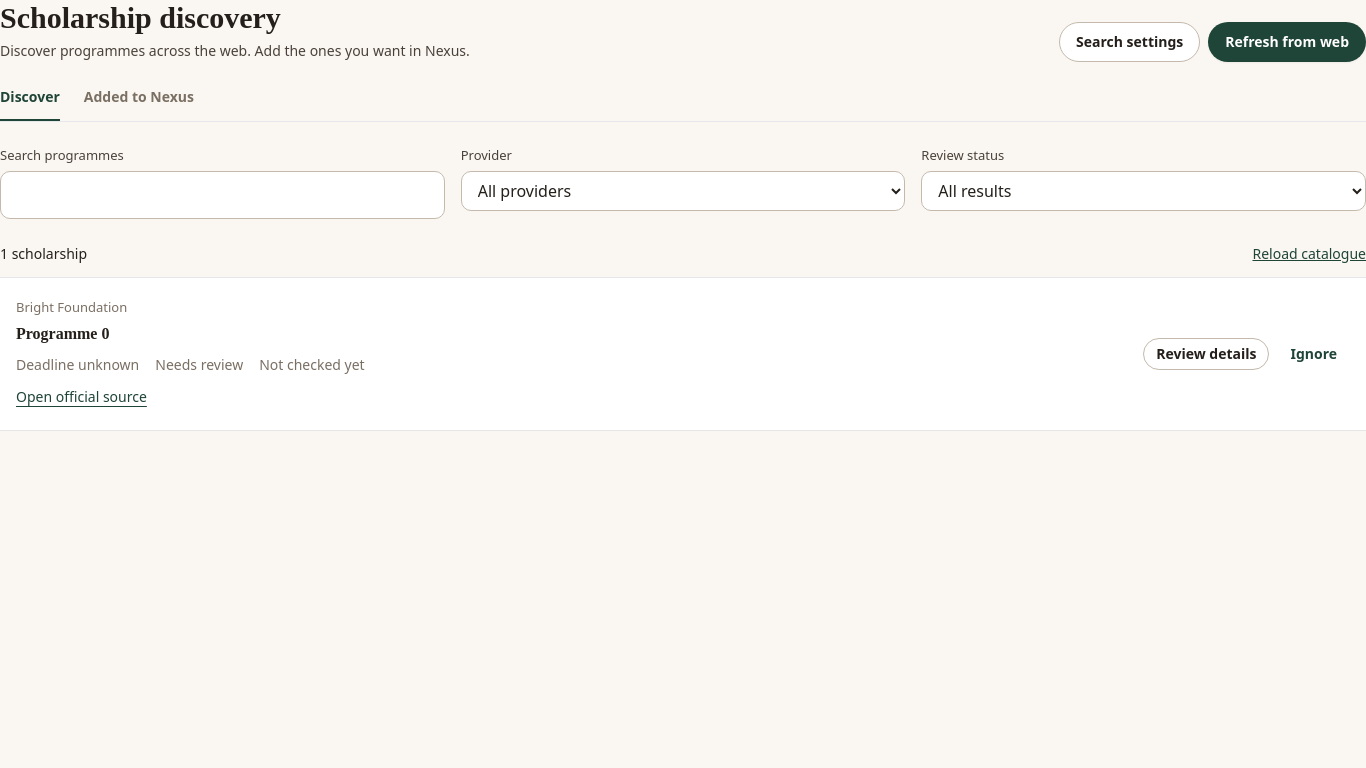
reviews incomplete details with evidence and retains the corrected draft
Expected: the text "1 scholarship" is shown, 0,243 -> 87,265
Expected: the button "Add to Nexus" is not shown
Click the button "Review details" at (1206, 354), box 1143,338 -> 1270,370
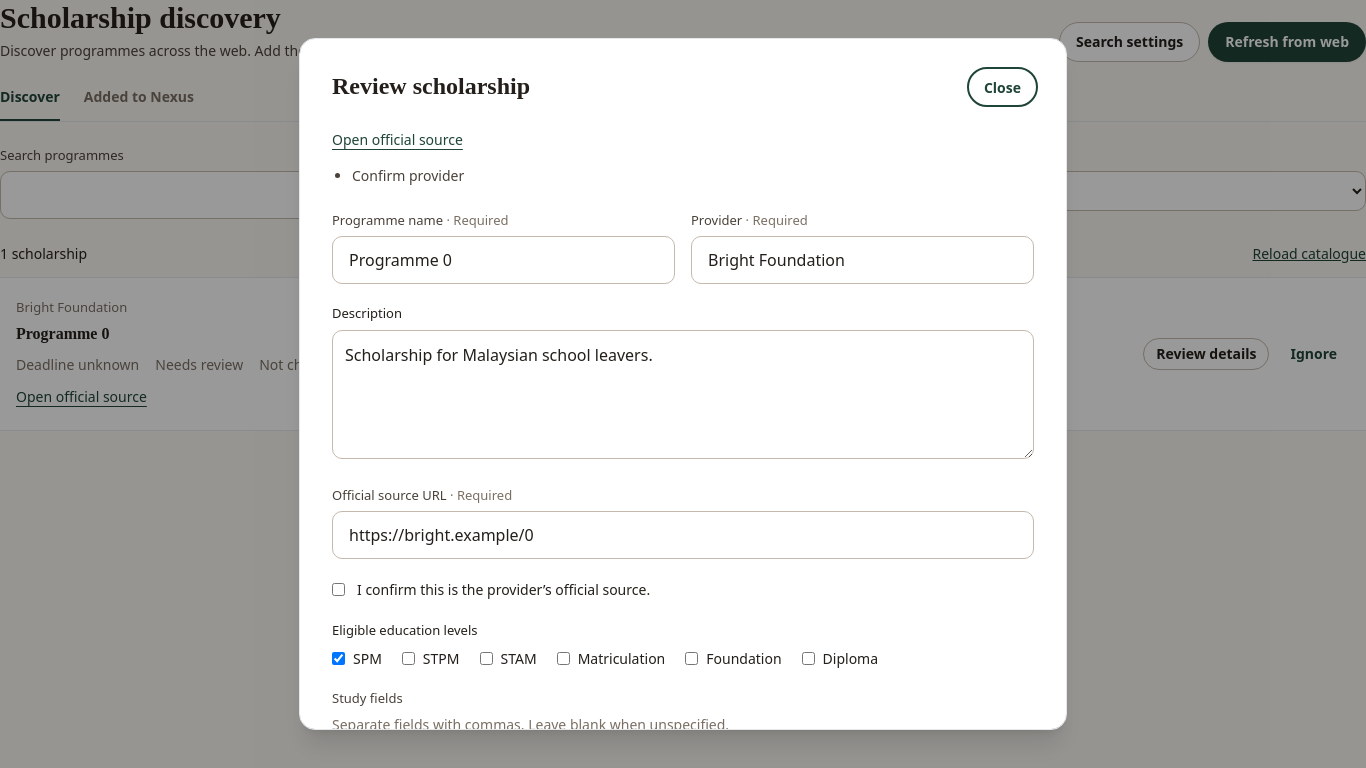
Replace the text in the field labelled "Provider · Required" with "Correct Foundation" at (862, 260), box 691,236 -> 1034,284
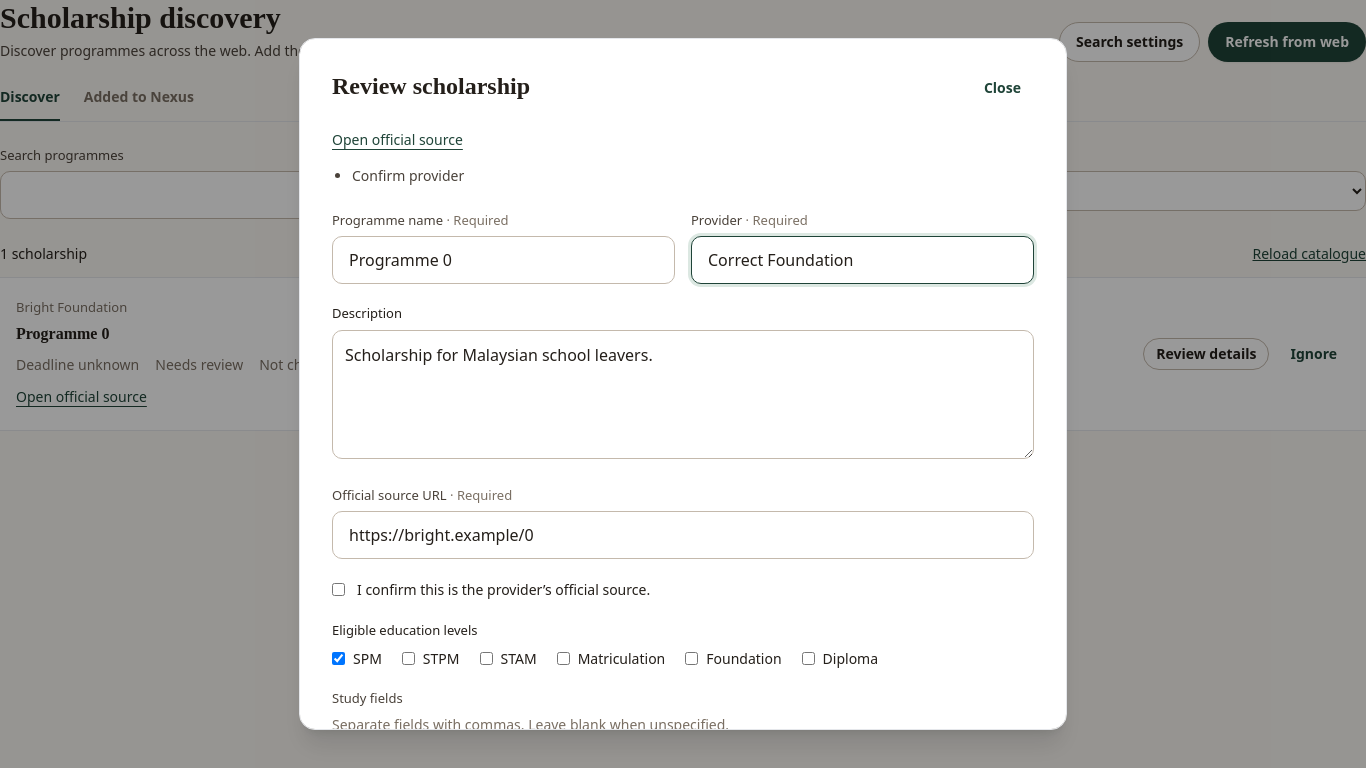
Click the checkbox labelled "I confirm this is the provider’s official source." at (338, 590), box 332,583 -> 345,596
(page scrolled)
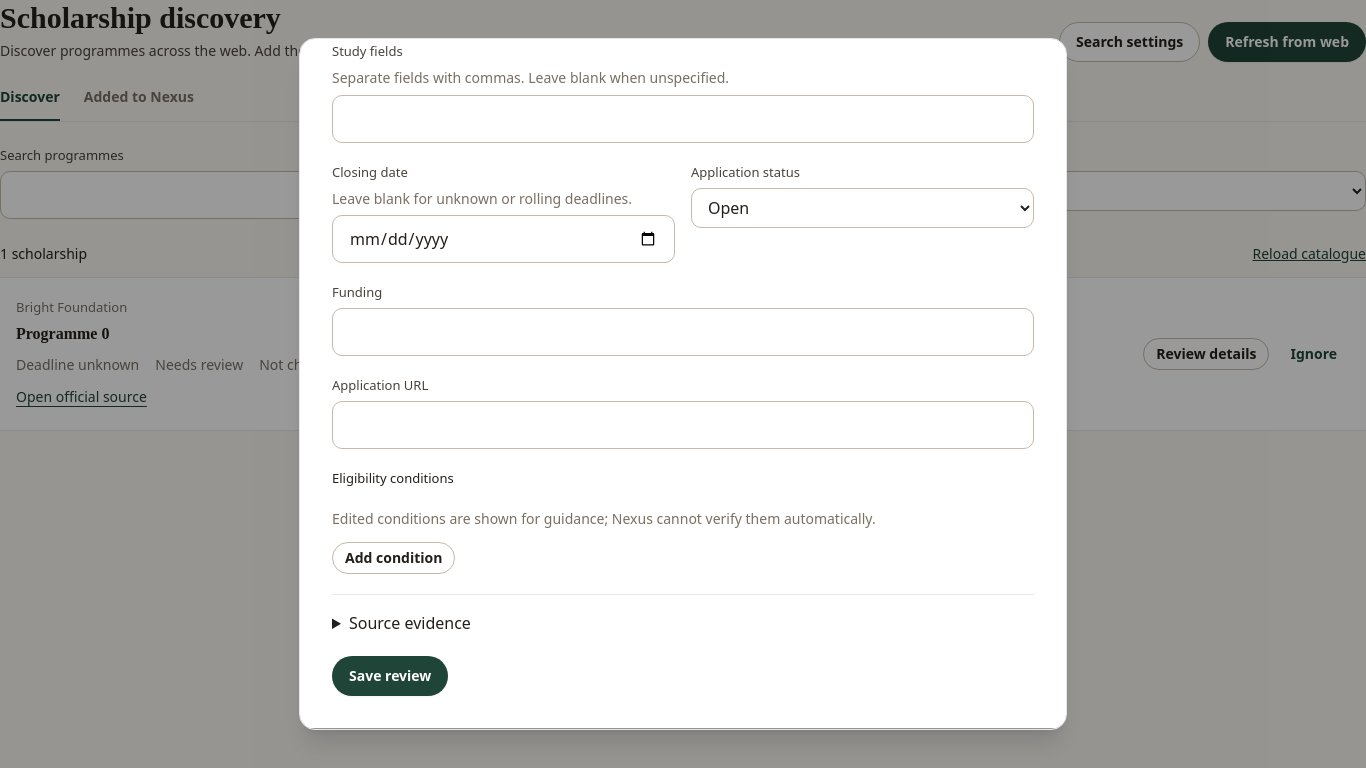
Click the button "Save review" at (390, 676), box 332,656 -> 448,696
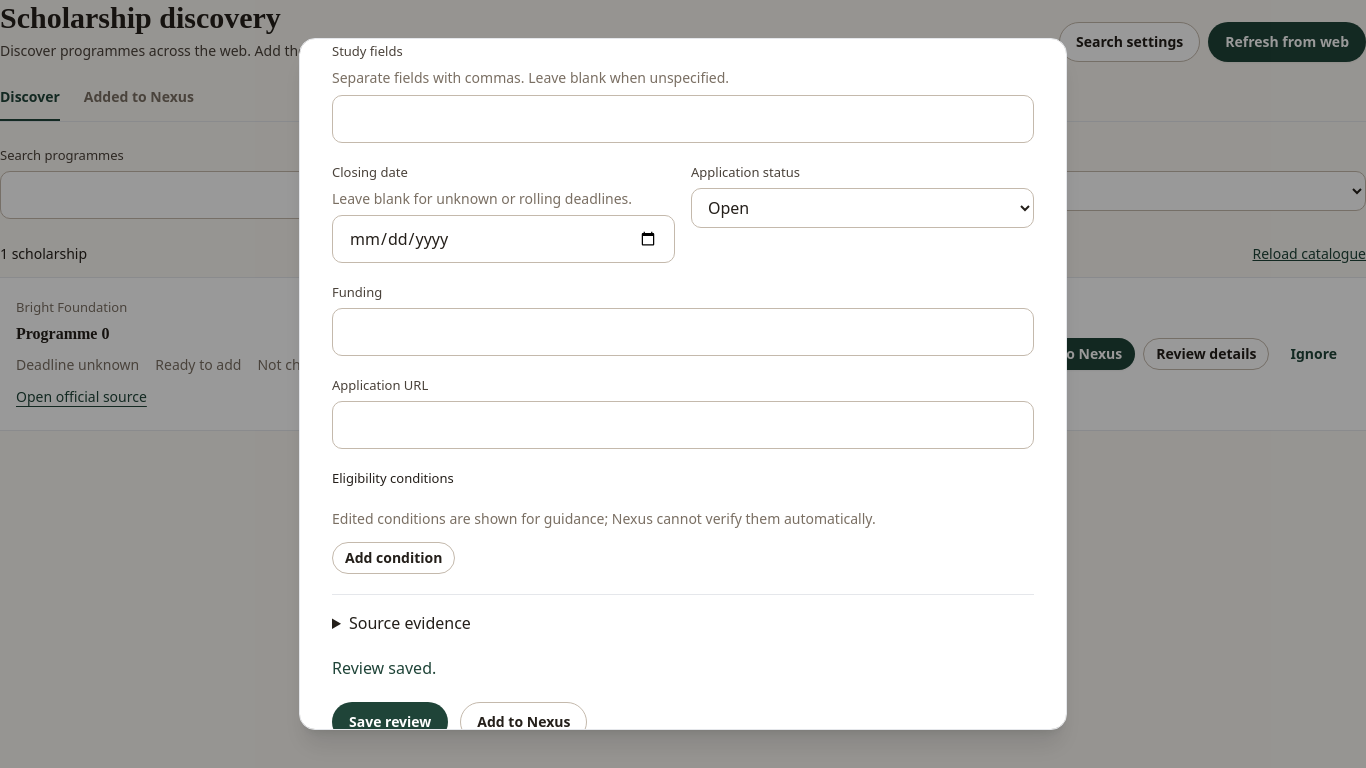
Expected: the text "Review saved." is shown, 332,657 -> 436,679
Press Escape in the dialog, box 299,38 -> 1067,730
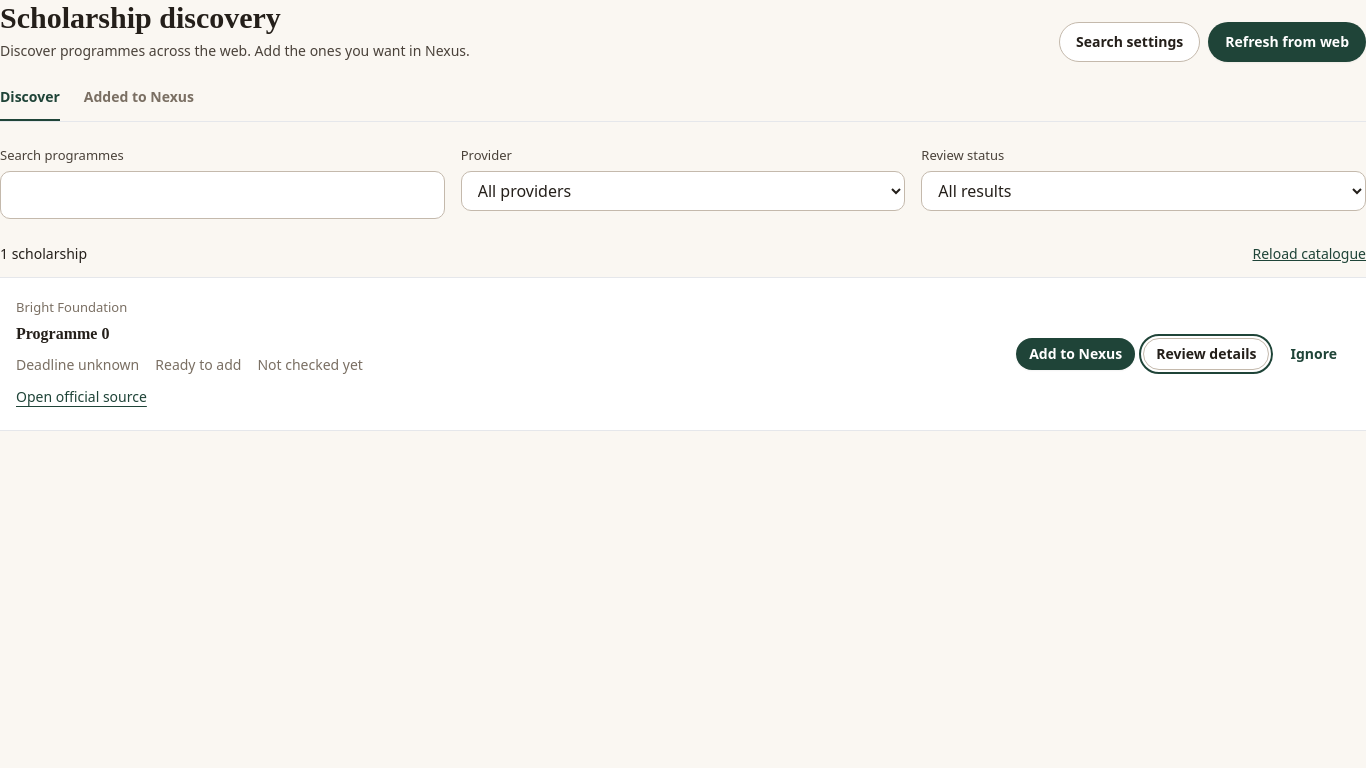
Expected: the dialog is gone
